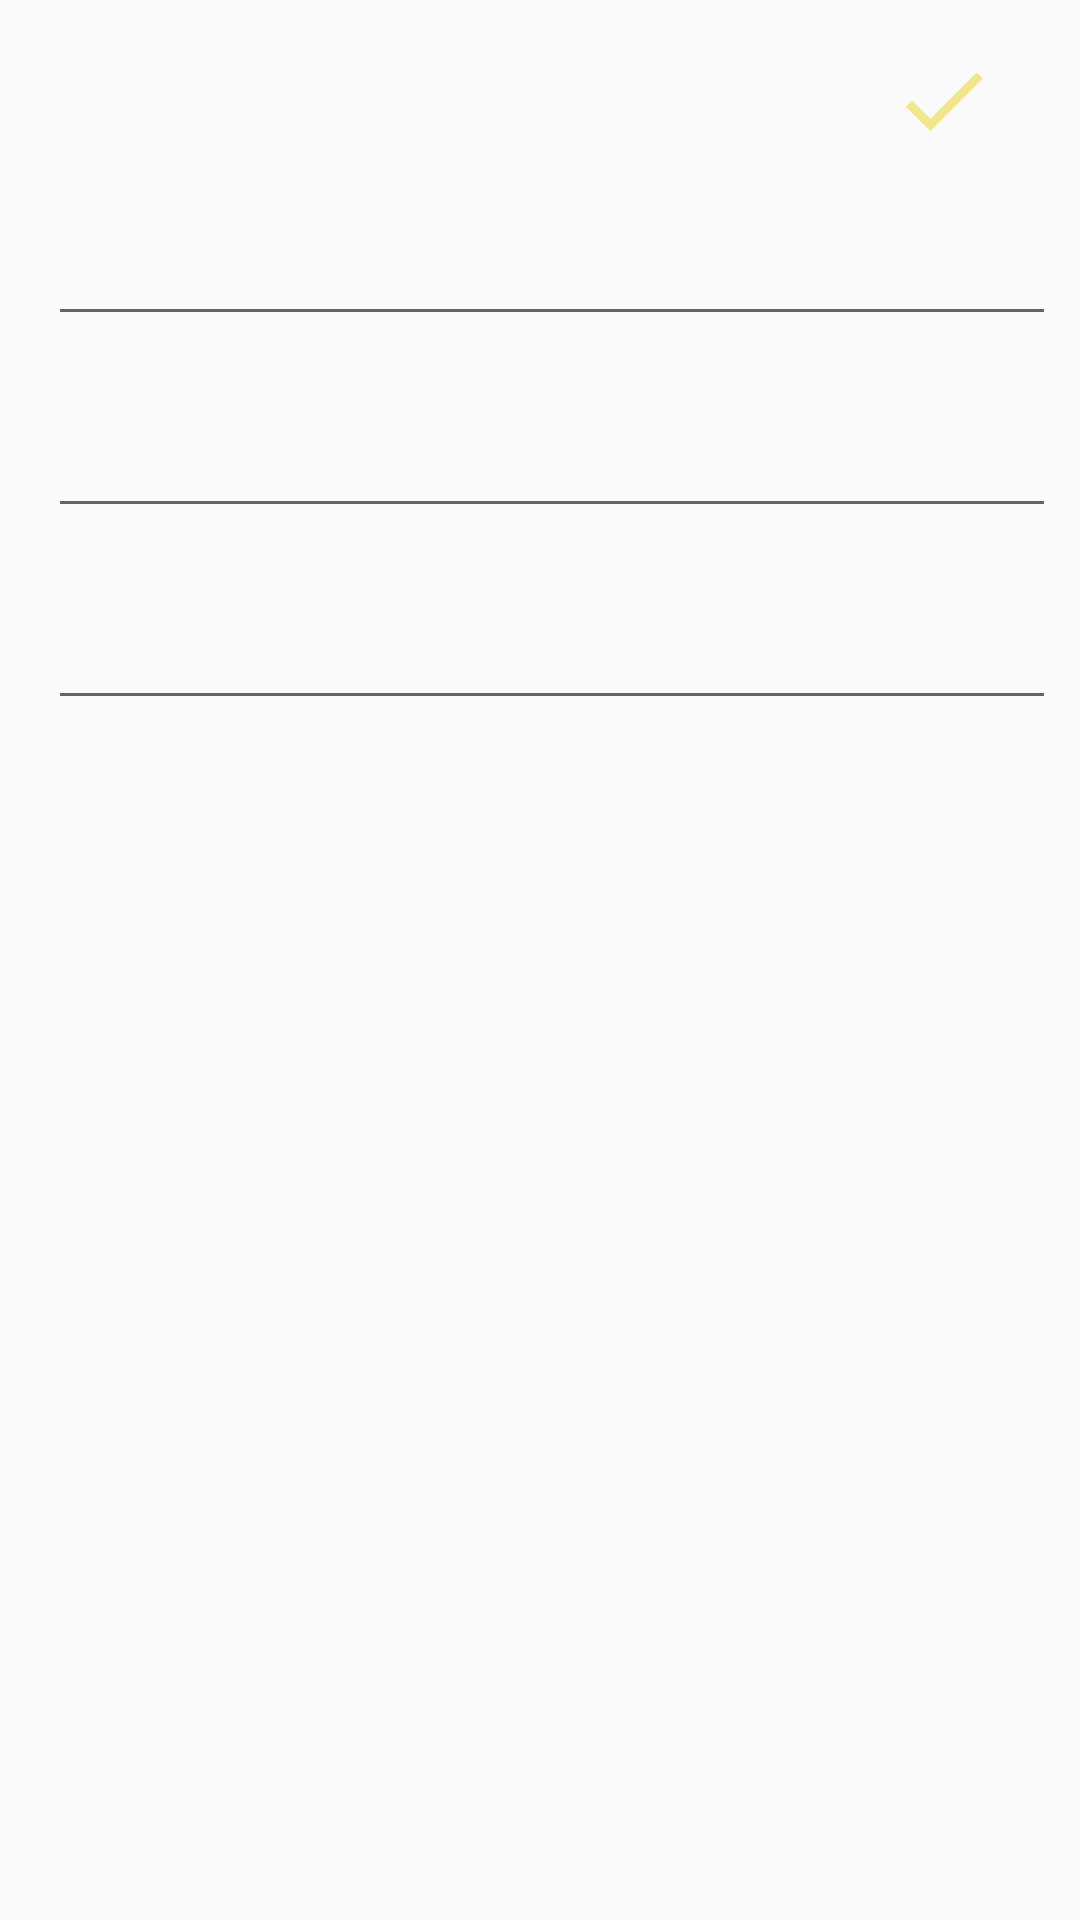

Screen size 1080x1920. Icon name, then its center in pixels as (x=x, y=y):
check: (x=944, y=101)
